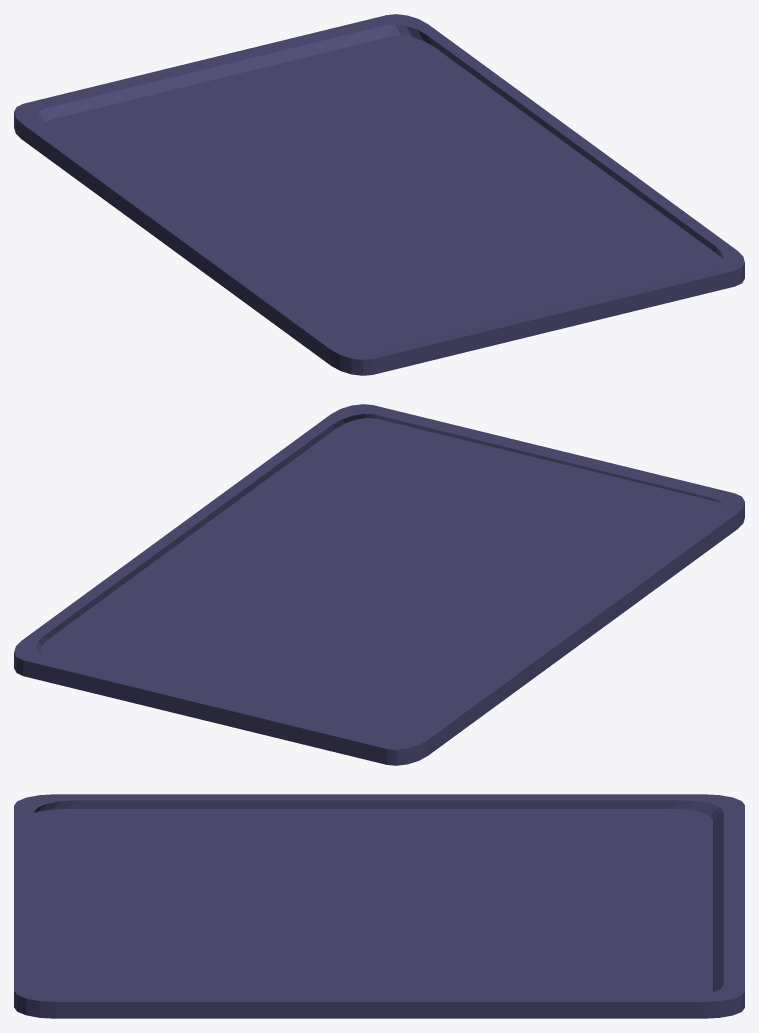
The model's file is Plateforme.fbx.
3 renders of one model, top to bottom at view 1: azimuth 30°, elevation 25°; view 2: azimuth 150°, elevation 25°; view 3: azimuth 270°, elevation 25°, orthographic. The views are drawn at different scales.
Parts seen in each view (by area): view 1: Cube; view 2: Cube; view 3: Cube.
Part boxes in pixels (x1,y1,x2,y2): Cube: [14, 14, 744, 375]; Cube: [14, 404, 744, 765]; Cube: [14, 794, 744, 1018].
Bounding box in the file's own units: 851 × 31.91 × 1266.
